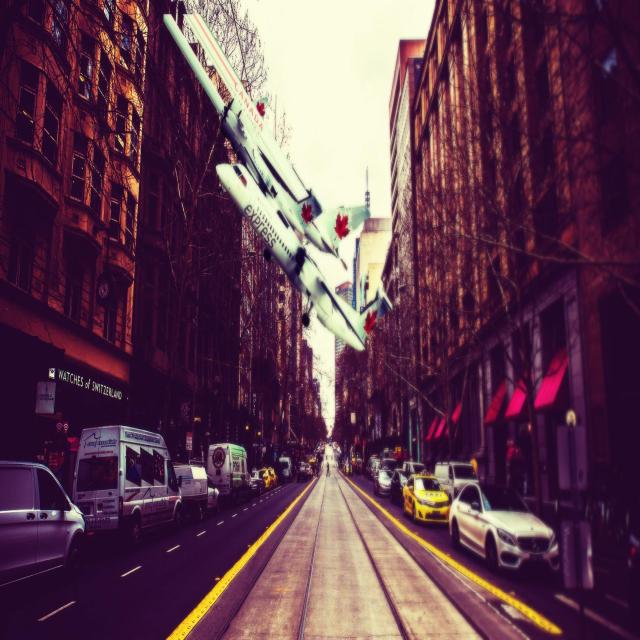airplane: (162, 10, 393, 353)
